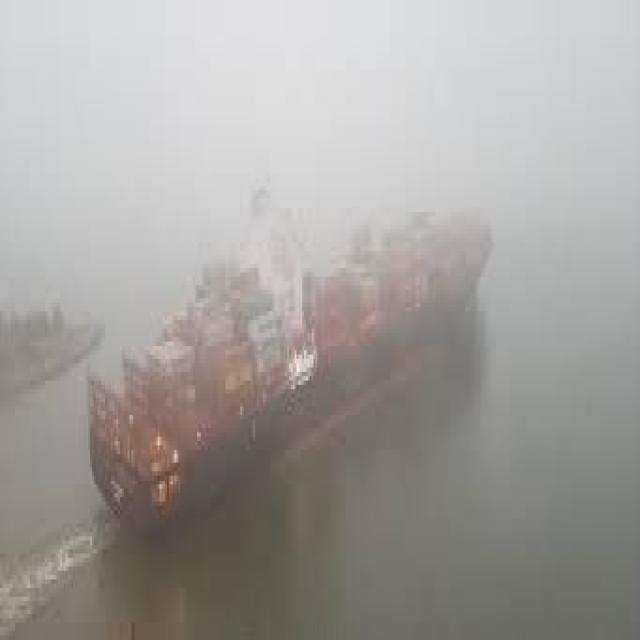cargoship: (82, 162, 494, 523), (0, 273, 98, 407)
